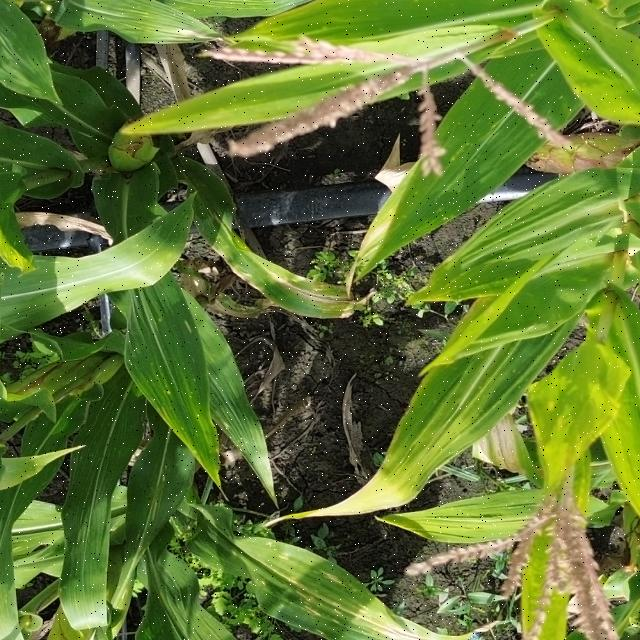gray-leaf-spot: (271, 551, 377, 623), (132, 451, 181, 522), (194, 204, 243, 254)
northern-leaf-blight: (240, 255, 359, 311)
southern-leaf-blight: (133, 330, 216, 428), (406, 116, 478, 225), (449, 343, 520, 420)
